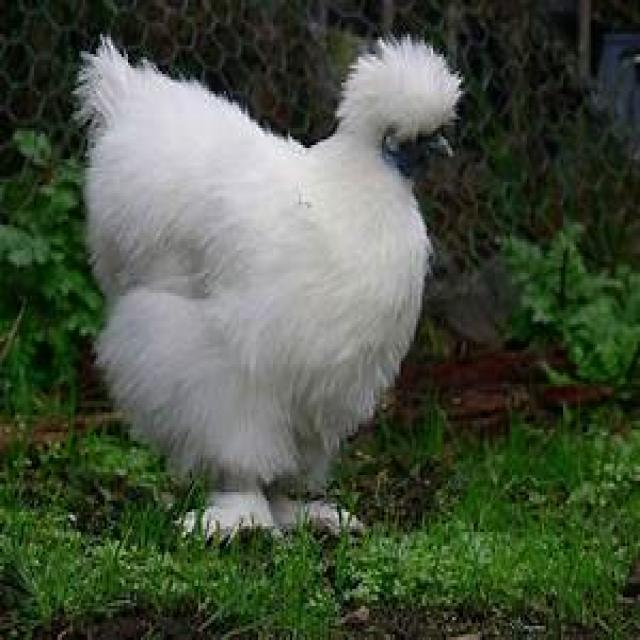hen: (76, 38, 460, 538)
